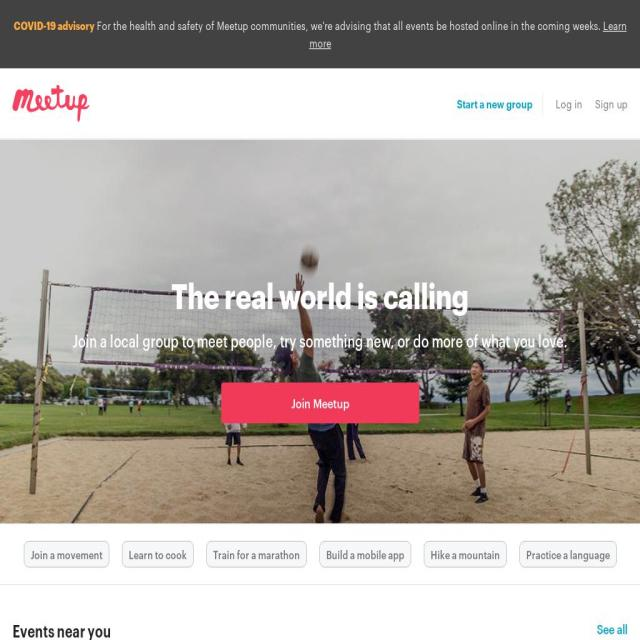button: (220, 382, 420, 423), (12, 85, 90, 122), (206, 541, 306, 567), (519, 541, 617, 567), (319, 541, 411, 567), (23, 541, 109, 567), (423, 541, 507, 567), (121, 541, 194, 567), (457, 92, 532, 115), (0, 0, 25, 33), (595, 92, 627, 115), (597, 618, 627, 640), (556, 92, 582, 115)
heading: (171, 274, 469, 316), (12, 618, 110, 640)
image: (0, 140, 640, 567), (12, 85, 90, 122)
link: (309, 17, 627, 51)
text: (72, 328, 568, 352), (94, 17, 603, 33), (12, 17, 49, 74), (457, 91, 532, 115), (212, 546, 300, 562), (526, 546, 610, 562), (290, 392, 350, 413), (326, 546, 404, 562), (30, 546, 102, 562), (14, 18, 94, 32), (430, 546, 500, 562), (128, 546, 187, 562), (595, 92, 627, 115), (556, 92, 582, 115), (597, 619, 627, 638)
